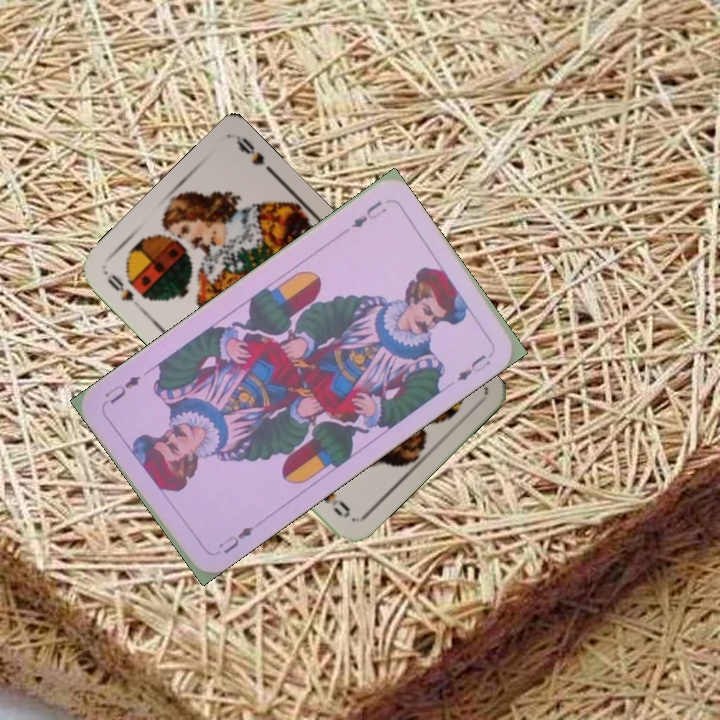EU: (347, 196, 389, 231), (214, 522, 256, 556)
SO: (103, 270, 148, 315)
